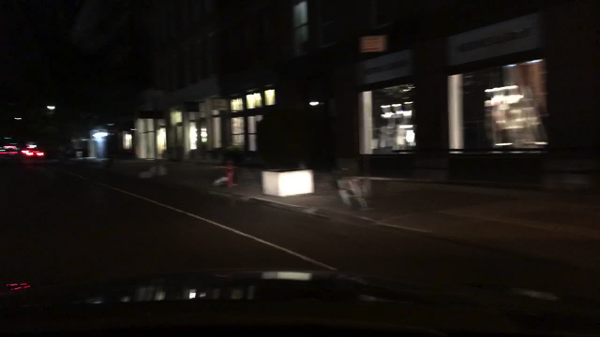car: (20, 150, 44, 158), (1, 150, 18, 160), (4, 142, 22, 150), (24, 143, 37, 150)
person: (334, 147, 369, 211)
traffic sign: (361, 37, 386, 51)
